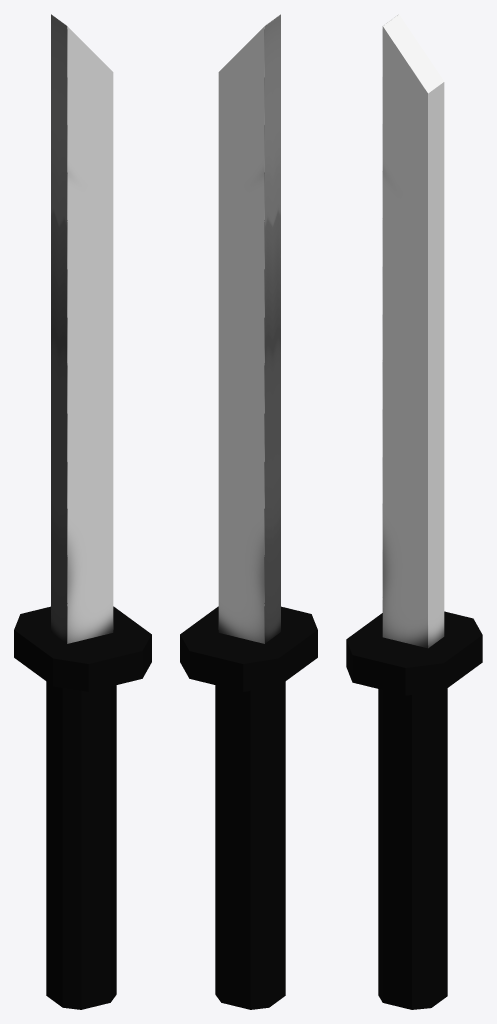
The model's file is catana.obj.
3 views of the same model, side by side, from view 1: azimuth 30°, elevation 25°; view 2: azimuth 150°, elevation 25°; view 3: azimuth 330°, elevation 25° (orthographic).
Visible parts, largest first — view 1: Cubo; view 2: Cubo; view 3: Cubo.
Part boxes in pixels (box(x1,y1,x2,y2)): Cubo: box(14, 14, 151, 1009); Cubo: box(180, 14, 317, 1009); Cubo: box(346, 14, 482, 1009).
Size of the model in its own units: 0.2952 by 2.8 by 0.3542.
Materials: 1 (1 with a texture image).
